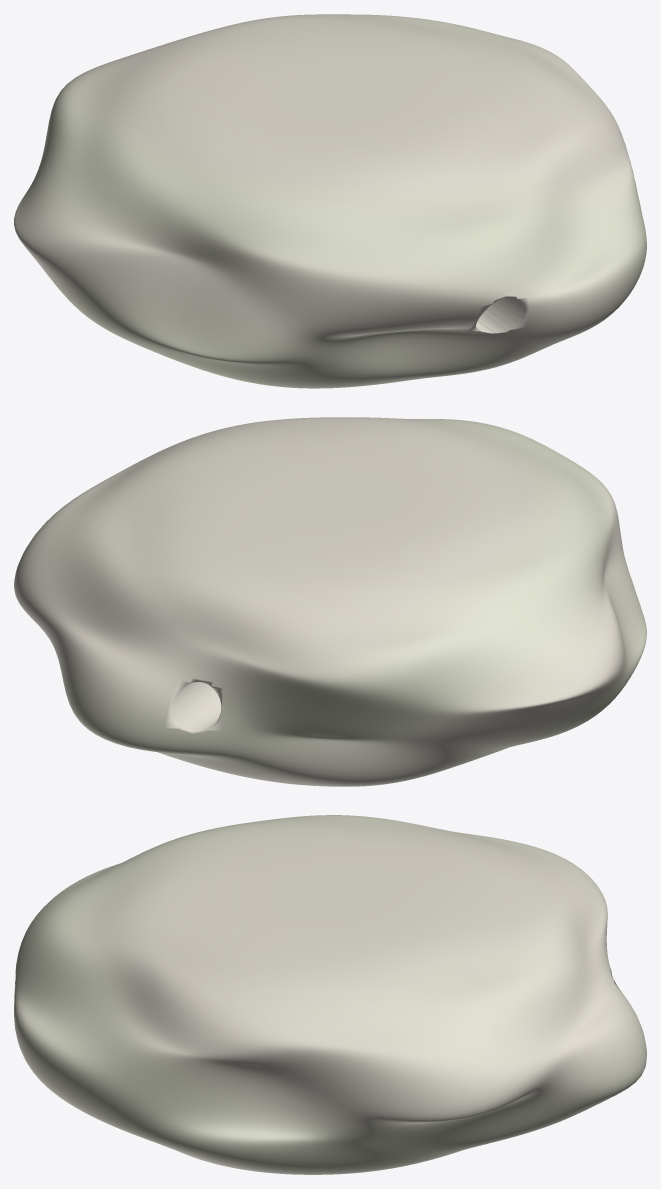
The model's file is pearl-ref-18.glb.
3 views of the same model, one above another, from view 1: azimuth 30°, elevation 25°; view 2: azimuth 150°, elevation 25°; view 3: azimuth 270°, elevation 25° (orthographic). The views are drawn at different scales.
Visible parts, largest first — view 1: pearl-ref-18; view 2: pearl-ref-18; view 3: pearl-ref-18.
Part boxes in pixels (box(x1,y1,x2,y2)): pearl-ref-18: box(14, 14, 646, 388); pearl-ref-18: box(14, 417, 646, 786); pearl-ref-18: box(14, 815, 646, 1174).
Size of the model in its own units: 0.0107 by 0.0038 by 0.0109.
2 materials, 1 textured.
